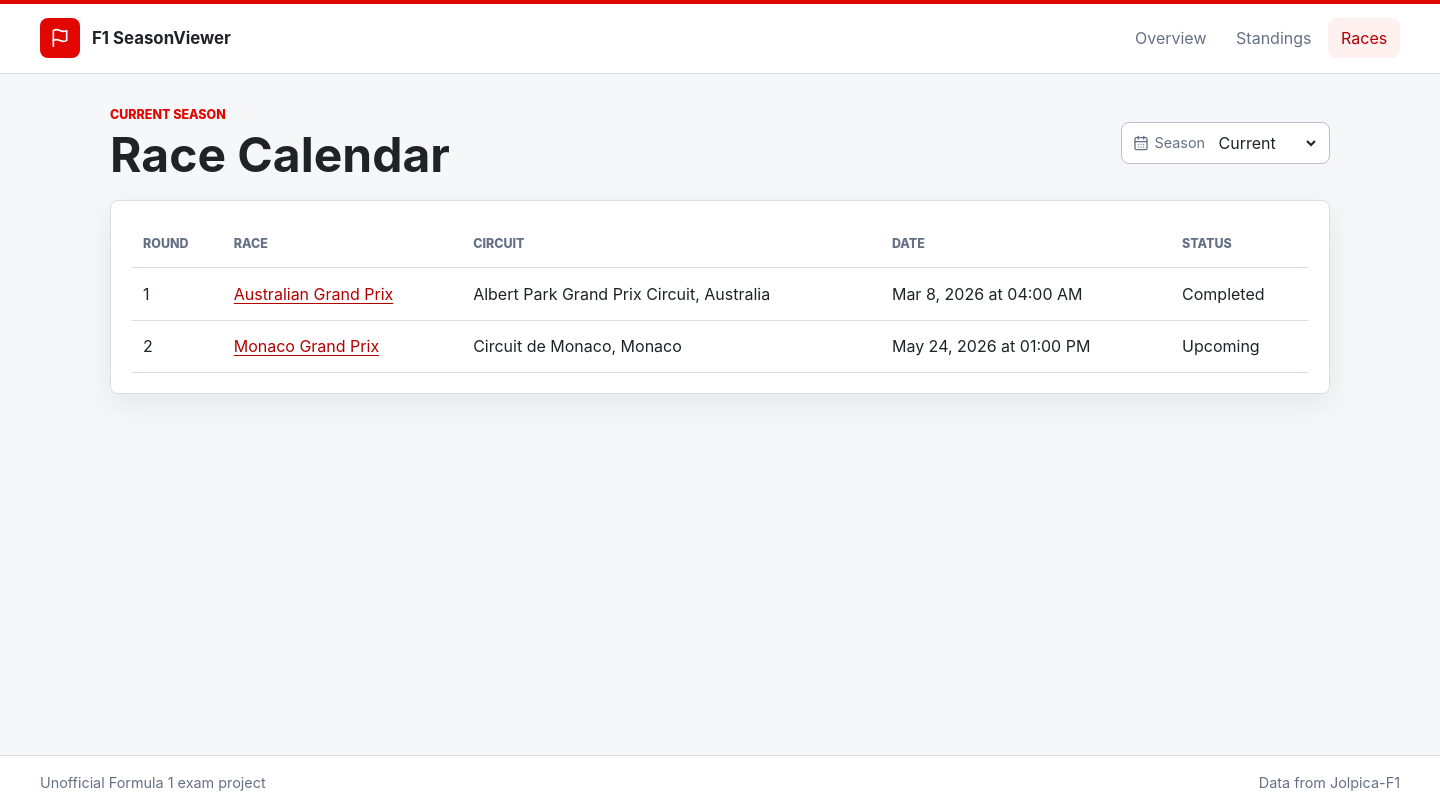
Scenario: F1 SeasonViewer app › opens a race detail page from the calendar
Click the link "Australian Grand Prix" at (314, 294), box left=234, top=284, right=393, bottom=304
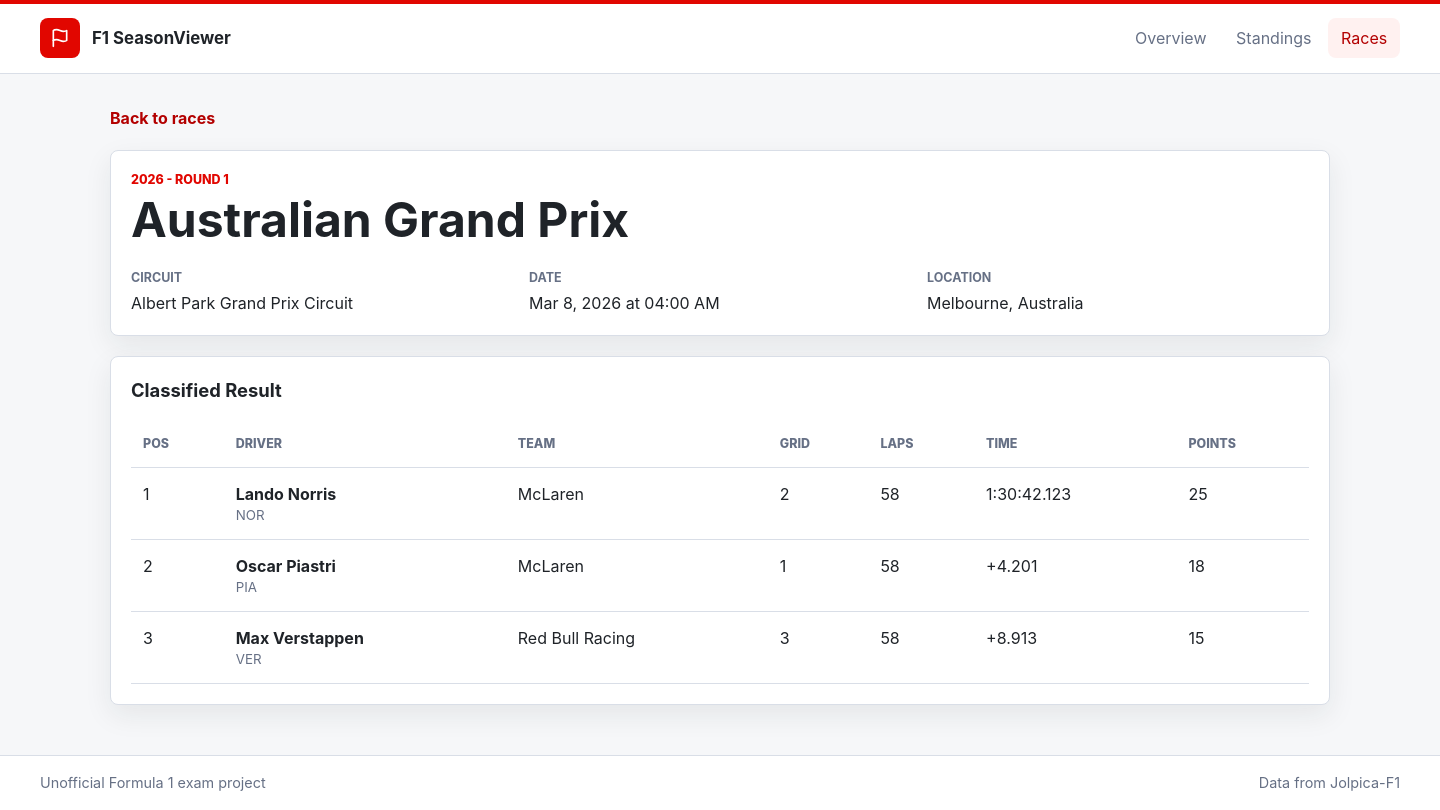
expect the heading "Australian Grand Prix" is shown: met, box left=131, top=190, right=629, bottom=249
